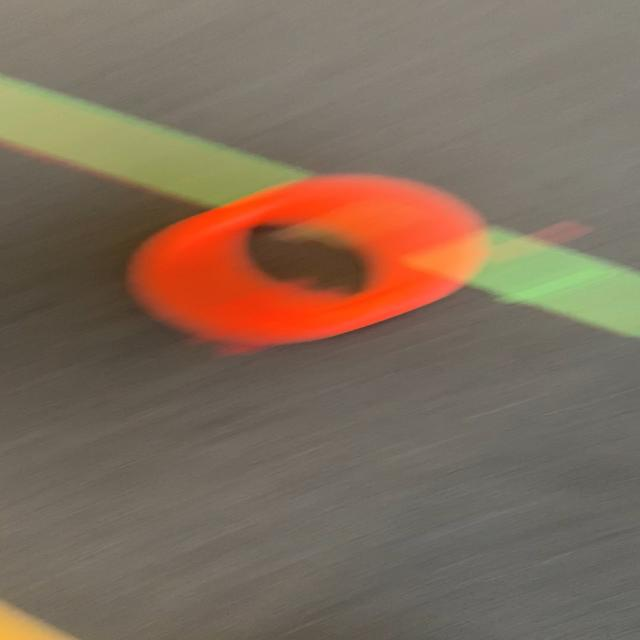notes: (129, 174, 486, 346)
